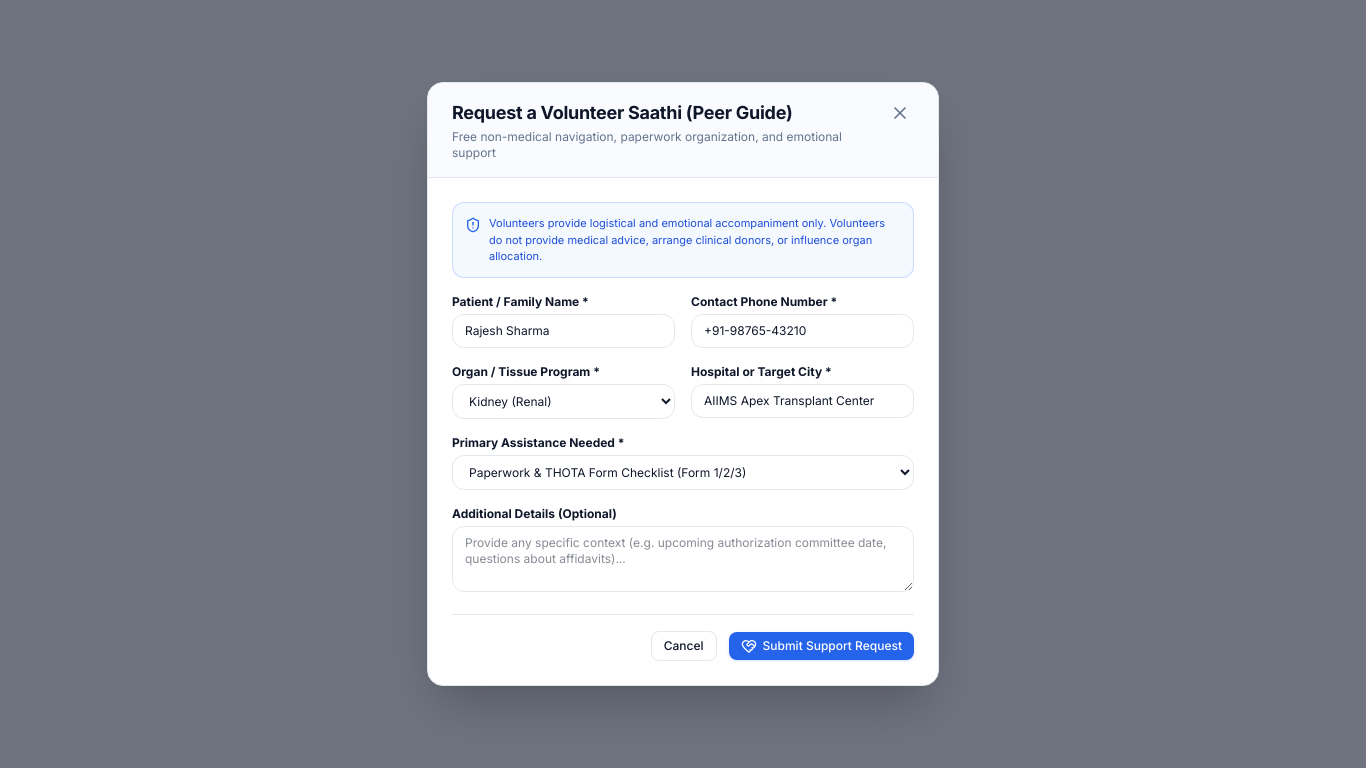
RequestSupportModal & Dialog Stacking Suite › handles API / persistence error gracefully and displays error banner without freezing or persistent blur
Click the button "Submit Support Request".
click(821, 646)  # box 729,632 -> 914,660
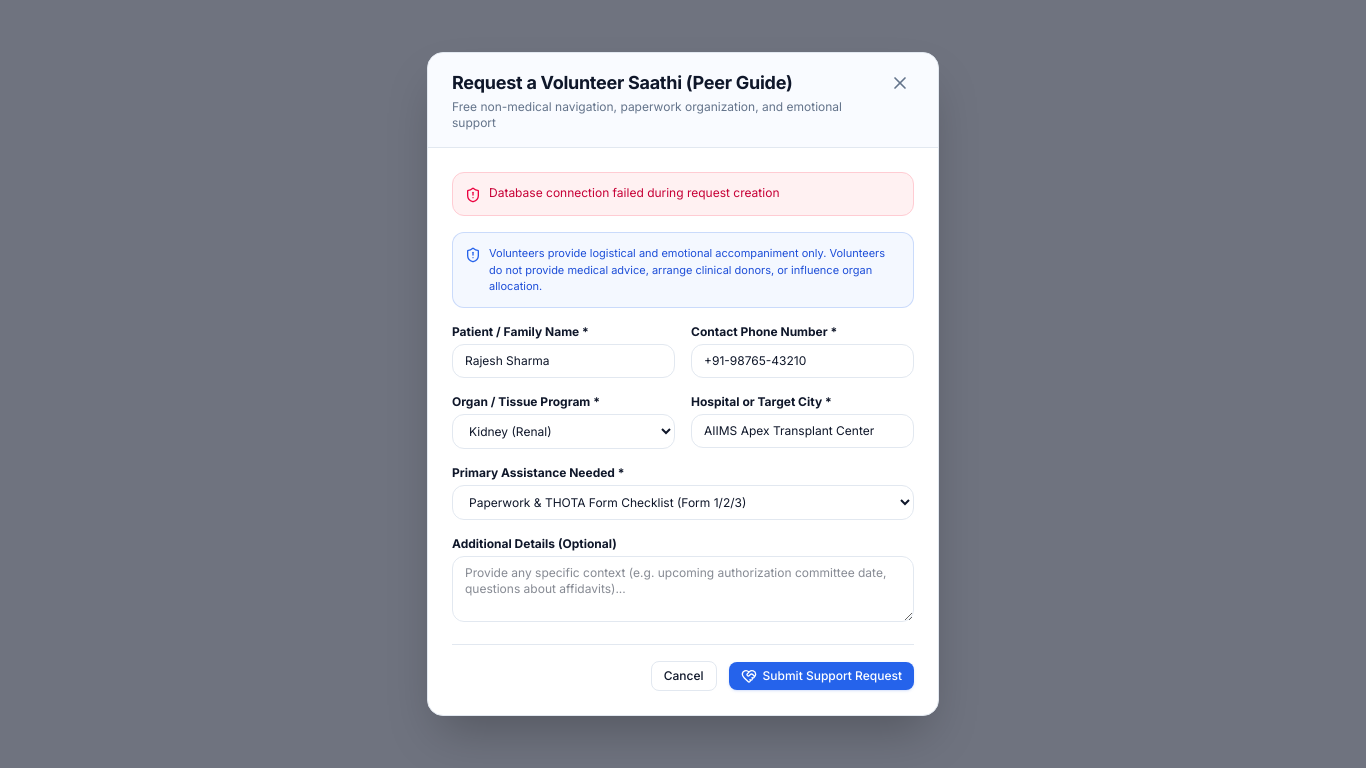
Expected: the button "Submit Support Request" is enabled, 729,662 -> 914,690
Expected: the text "Database connection failed during request creation" is shown, 489,185 -> 780,201
